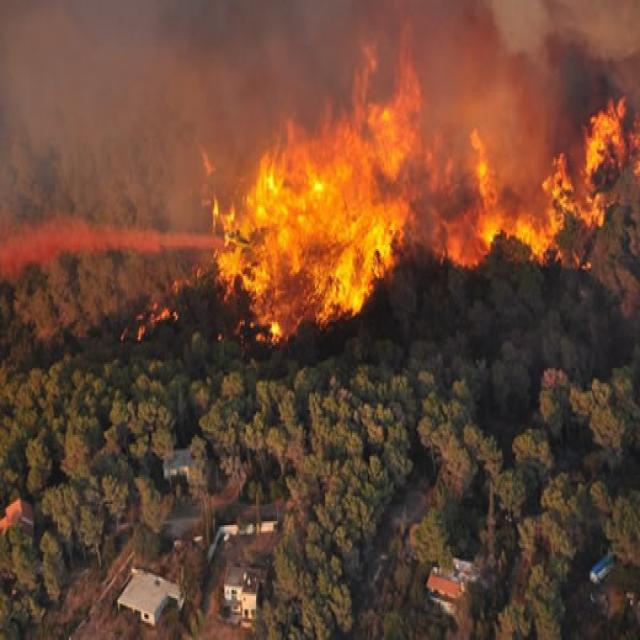Fire: (236, 76, 633, 340)
Smoke: (42, 19, 553, 204)
